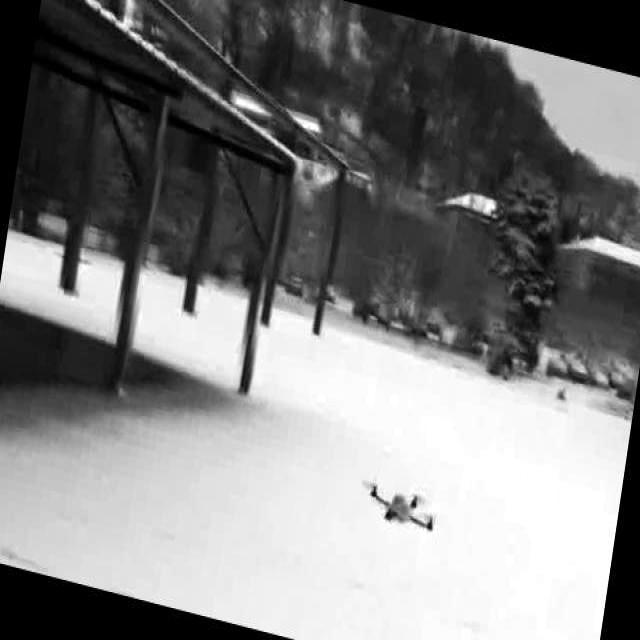drone: (350, 464, 446, 552)
